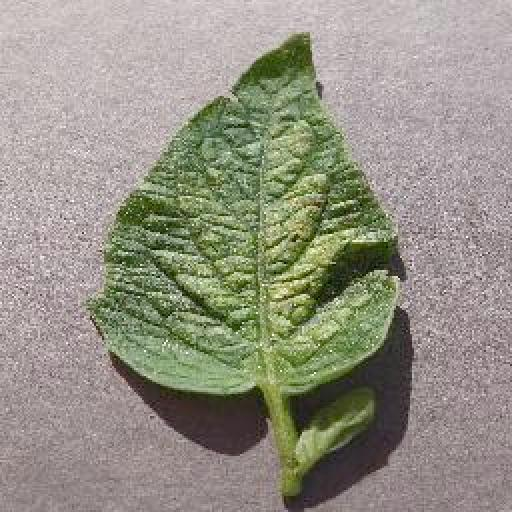disease_tomato: (92, 32, 402, 394)
